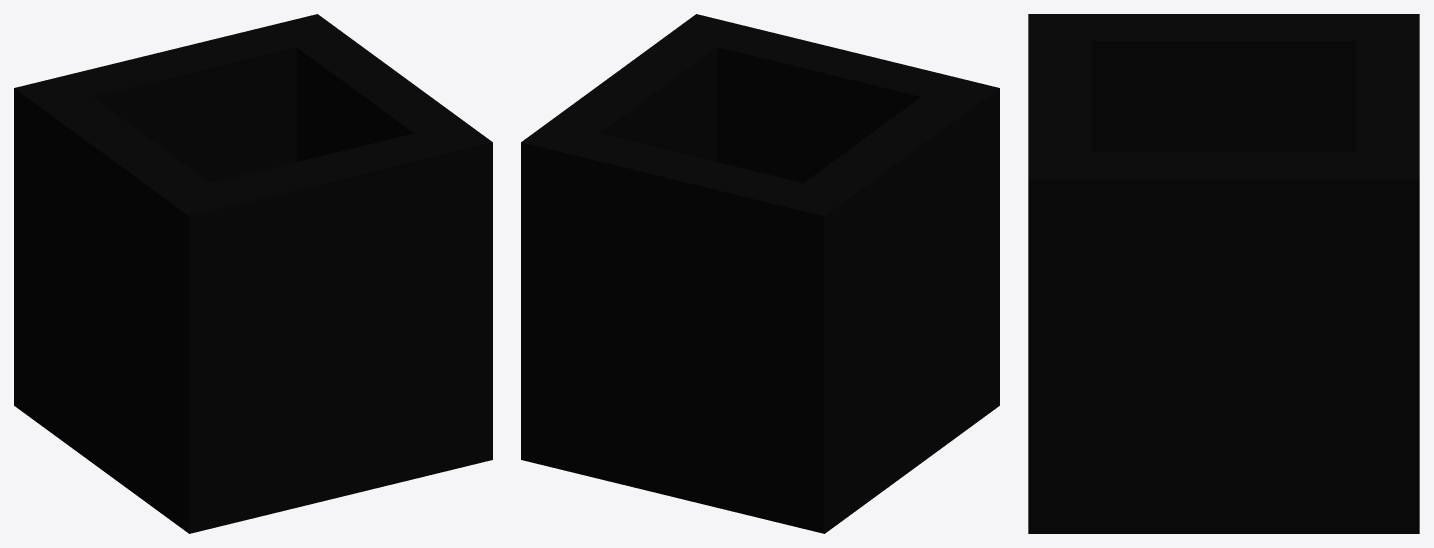
3 renders of one model, left to right at view 1: azimuth 30°, elevation 25°; view 2: azimuth 150°, elevation 25°; view 3: azimuth 270°, elevation 25°, orthographic. The views are drawn at different scales.
Visible parts, largest first — view 1: Box_122x122x122; view 2: Box_122x122x122; view 3: Box_122x122x122.
Boxes of the visible parts, x1=… form: Box_122x122x122: x1=14, y1=14, x2=492, y2=533; Box_122x122x122: x1=521, y1=14, x2=999, y2=533; Box_122x122x122: x1=1028, y1=14, x2=1419, y2=533.
Size of the model in its own units: 0.122 by 0.122 by 0.122.
1 material, 1 textured.
